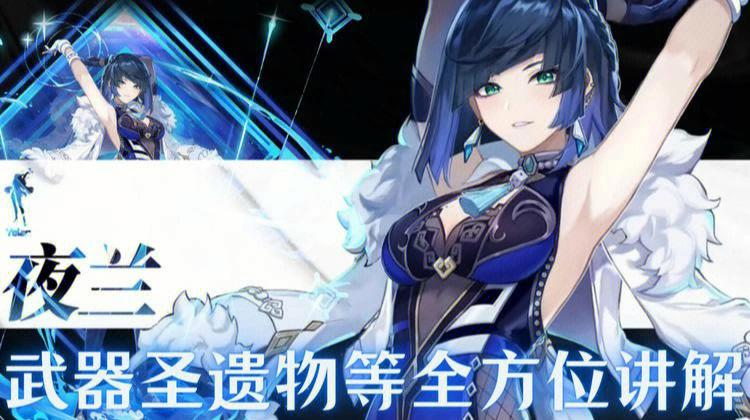夜兰: (376, 1, 750, 420), (42, 31, 171, 160)
